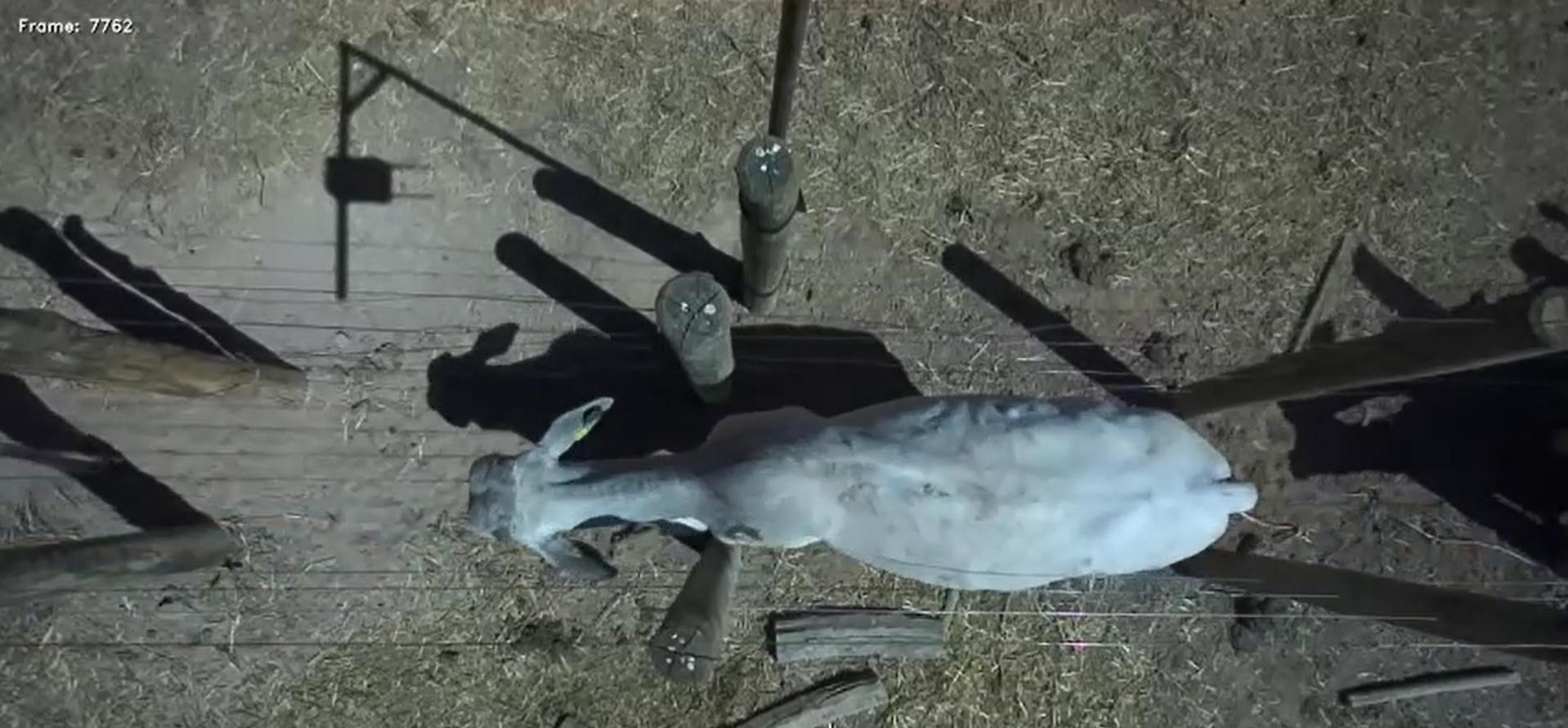cattle: (464, 388, 1260, 602)
